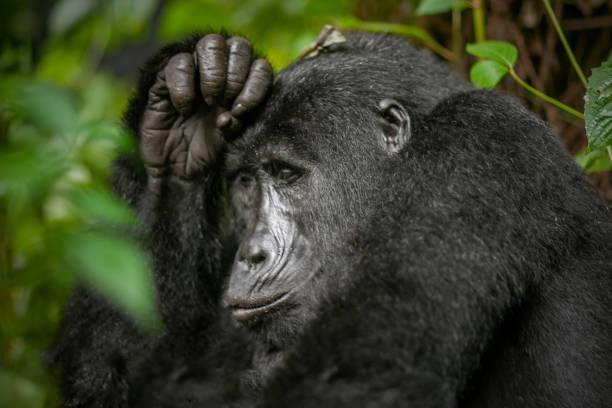goriile_montagne: (72, 0, 612, 408)
